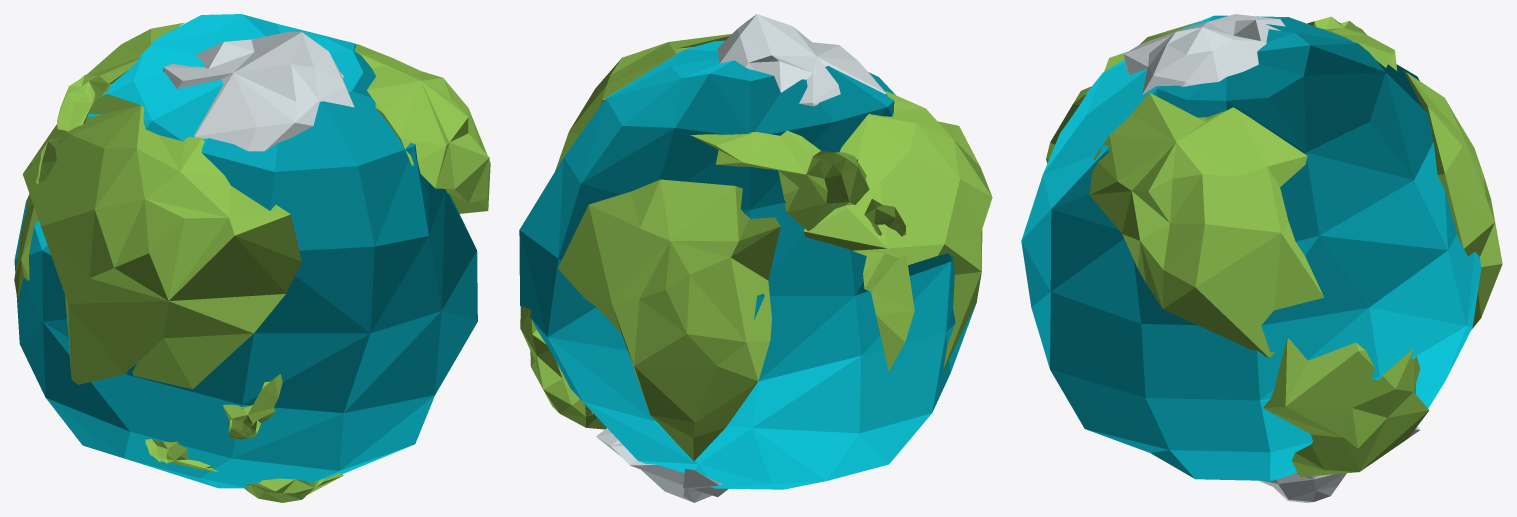
Rendered from Earth.fbx.
The picture shows the model from 3 angles, left to right: view 1: azimuth 30°, elevation 25°; view 2: azimuth 150°, elevation 25°; view 3: azimuth 270°, elevation 25°; orthographic projection. The views are drawn at different scales.
Parts seen in each view (by area): view 1: Earth; view 2: Earth; view 3: Earth.
Boxes of the visible parts, left/top/right/bottom form: Earth: left=14, top=14, right=490, bottom=502; Earth: left=519, top=14, right=992, bottom=502; Earth: left=1021, top=14, right=1502, bottom=502.
Bounding box in the file's own units: 35.2 × 38.04 × 35.32.
